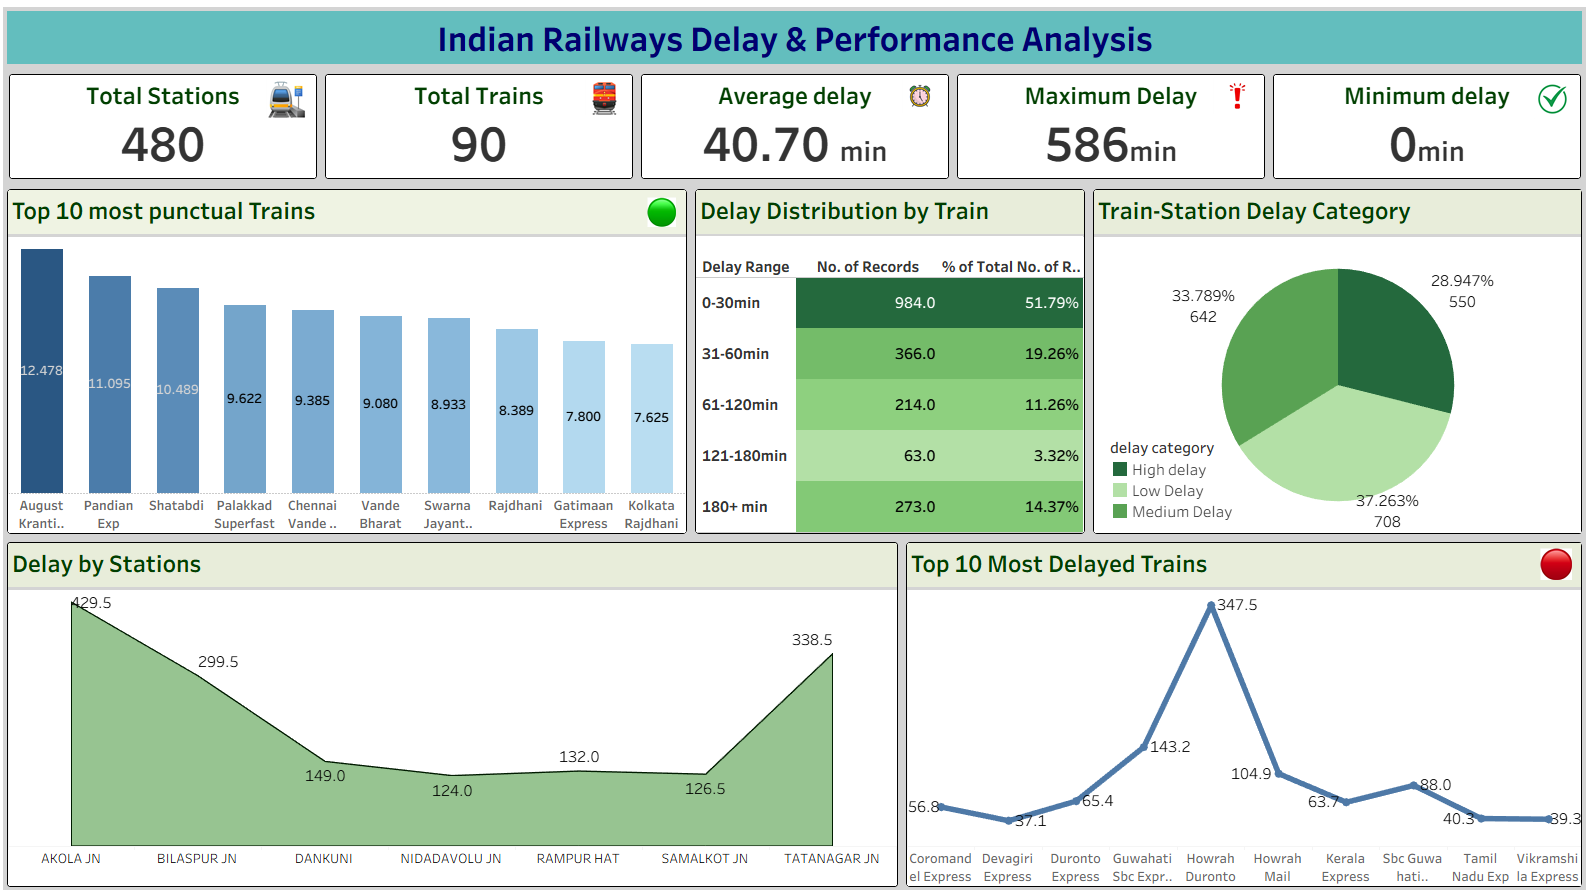

What the dashboard file says about the page in this screenshot:
{"tool":"tableau","page":{"name":"Dashboard 1","canvas":[1600,900],"ordinal":0},"visuals":[{"type":"title","box":[8,8,1584,61]},{"type":"worksheet","title":"stations","mark":"Automatic","box":[10,71,316,113]},{"type":"worksheet","title":"trains","mark":"Automatic","box":[326,71,316,113]},{"type":"worksheet","title":"avg delay","mark":"Automatic","box":[642,71,316,113]},{"type":"worksheet","title":"max delay","mark":"Automatic","box":[958,71,316,113]},{"type":"worksheet","title":"min delay","mark":"Automatic","box":[1274,71,316,113]},{"type":"image","param":"C:/Users/lodhd/OneDrive/Documents/train station.jpeg","box":[264,78,55,41]},{"type":"image","param":"C:/Users/lodhd/OneDrive/Documents/train.jpeg","box":[590,78,45,38]},{"type":"image","param":"C:/Users/lodhd/OneDrive/Documents/warning.jpeg","box":[1218,78,48,43]},{"type":"image","param":"C:/Users/lodhd/OneDrive/Documents/time.jpeg","box":[907,79,44,35]},{"type":"image","param":"C:/Users/lodhd/OneDrive/Documents/tick.jpeg","box":[1539,79,38,41]},{"type":"worksheet","title":"Top 10 most punctual trains","mark":"Bar","rows":["average_delay_minutes"],"cols":["train_name"],"box":[8,186,688,353]},{"type":"worksheet","title":"Delay Distribution by Train","mark":"Square","rows":["Calculation_0049240672165888"],"box":[696,186,398,353]},{"type":"worksheet","title":"delay category","mark":"Pie","box":[1094,186,498,353]},{"type":"image","param":"C:/Users/lodhd/OneDrive/Documents/WhatsApp Image 2026-08-24 at 10.44.07 AM.jpeg","box":[652,198,36,30]},{"type":"legend","title":"delay category","param":"[federated.0zy351r12ilw5x10trtpm0om3u3l].[none:Calculation_1327697134239750:nk]","box":[1115,438,140,85]},{"type":"worksheet","title":"Delay by Station","mark":"Area","rows":["average_delay_minutes"],"cols":["station_name"],"box":[8,539,899,353]},{"type":"worksheet","title":"10 most delayed trains","mark":"Line","rows":["average_delay_minutes"],"cols":["train_name"],"box":[907,539,685,353]},{"type":"image","param":"C:/Users/lodhd/OneDrive/Documents/red circle.jpeg","box":[1545,549,32,33]}]}

Visuals, with their boxes in screenshot pixels (x1, y1, x2, y2), scaled from the page's 1600x900 canvas onto the 1587x892 screenshot:
title: 8 8 1579 68
"stations" worksheet: 10 70 323 182
"trains" worksheet: 323 70 637 182
"avg delay" worksheet: 637 70 950 182
"max delay" worksheet: 950 70 1264 182
"min delay" worksheet: 1264 70 1577 182
image: 262 77 316 118
image: 585 77 630 115
image: 1208 77 1256 120
image: 900 78 943 113
image: 1526 78 1564 119
"Top 10 most punctual trains" worksheet (Bar marks): 8 184 690 534
"Delay Distribution by Train" worksheet (Square marks): 690 184 1085 534
"delay category" worksheet (Pie marks): 1085 184 1579 534
image: 647 196 682 226
"delay category" legend: 1106 434 1245 518
"Delay by Station" worksheet (Area marks): 8 534 900 884
"10 most delayed trains" worksheet (Line marks): 900 534 1579 884
image: 1532 544 1564 577
